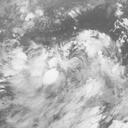cyclone: (28, 43, 102, 115)
